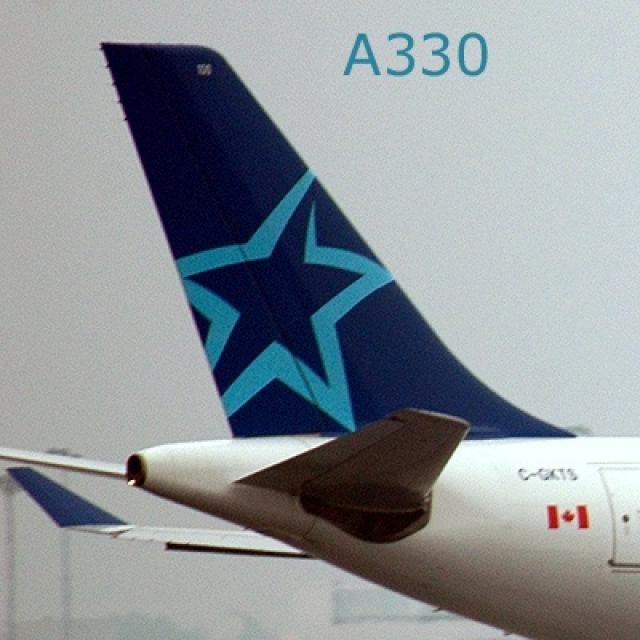aeroplane: (5, 24, 638, 638)
